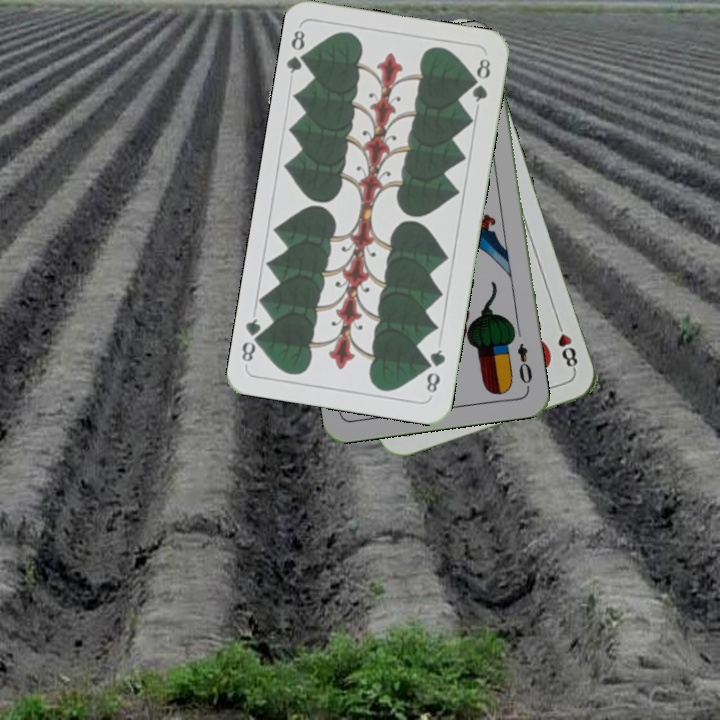EO: (513, 339, 535, 387)
G8: (283, 26, 314, 76), (422, 345, 448, 396)
H8: (552, 316, 581, 374)
